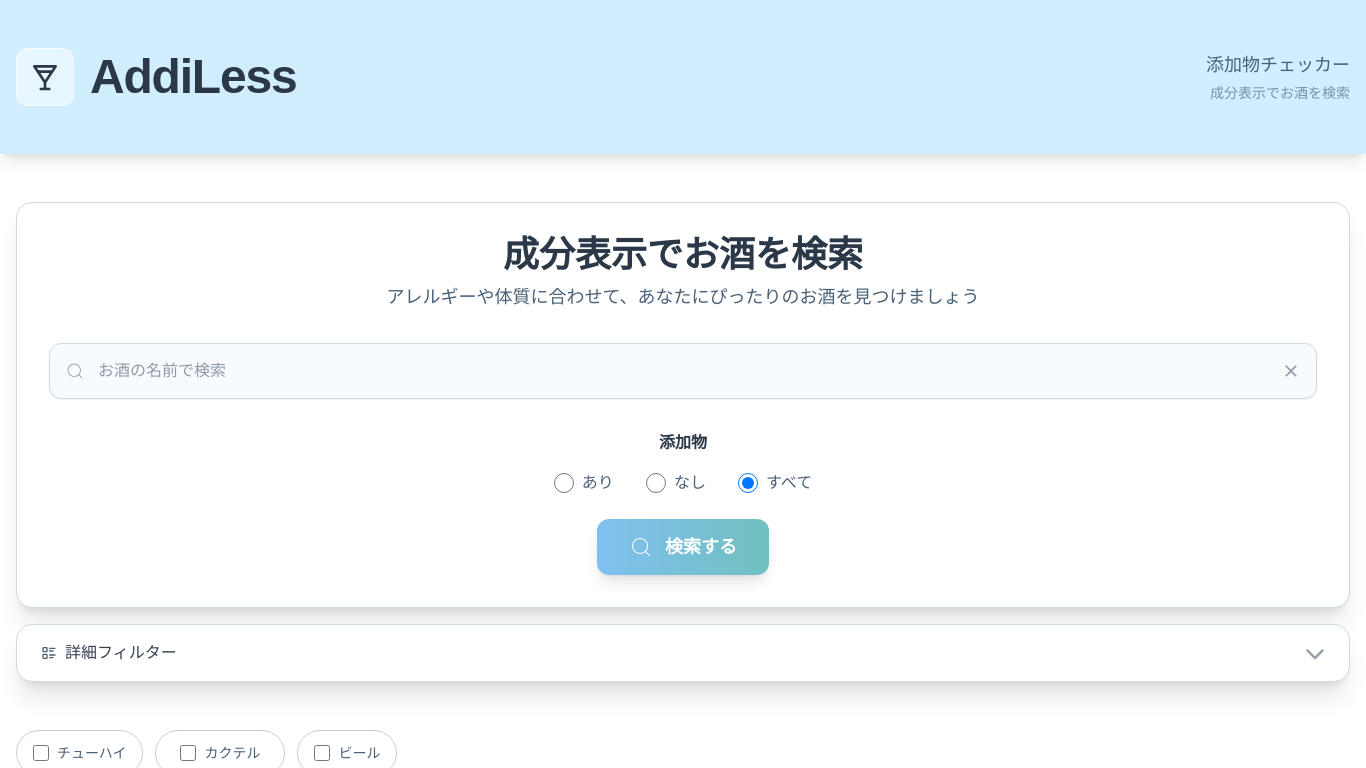
Test: AlcoholsSearch › メーカー選択ボックスが表示されている
Click the button with test id "detail_filter_button": {"x": 121, "y": 652} [17,625,1349,681]
(page scrolled)
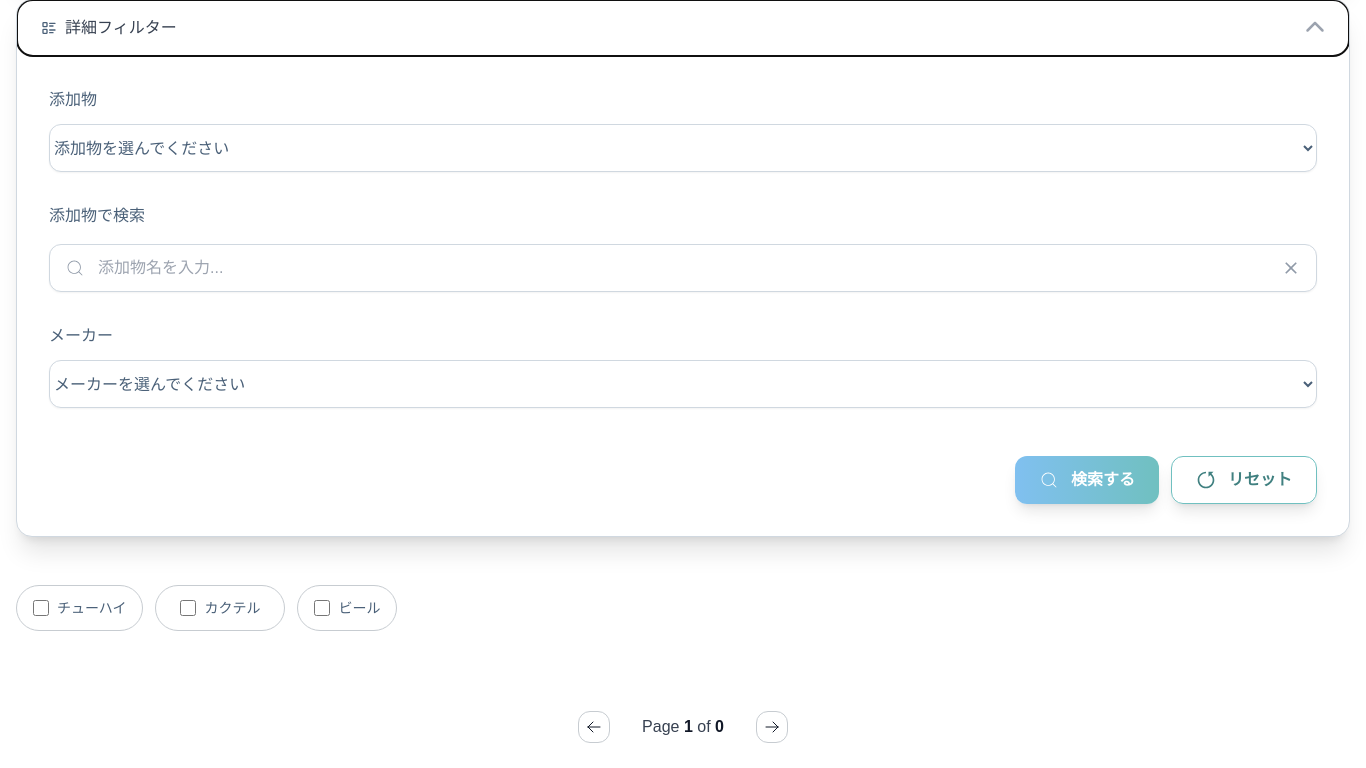
Expected: the dropdown with test id "maker" is shown, [49,360,1317,408]
